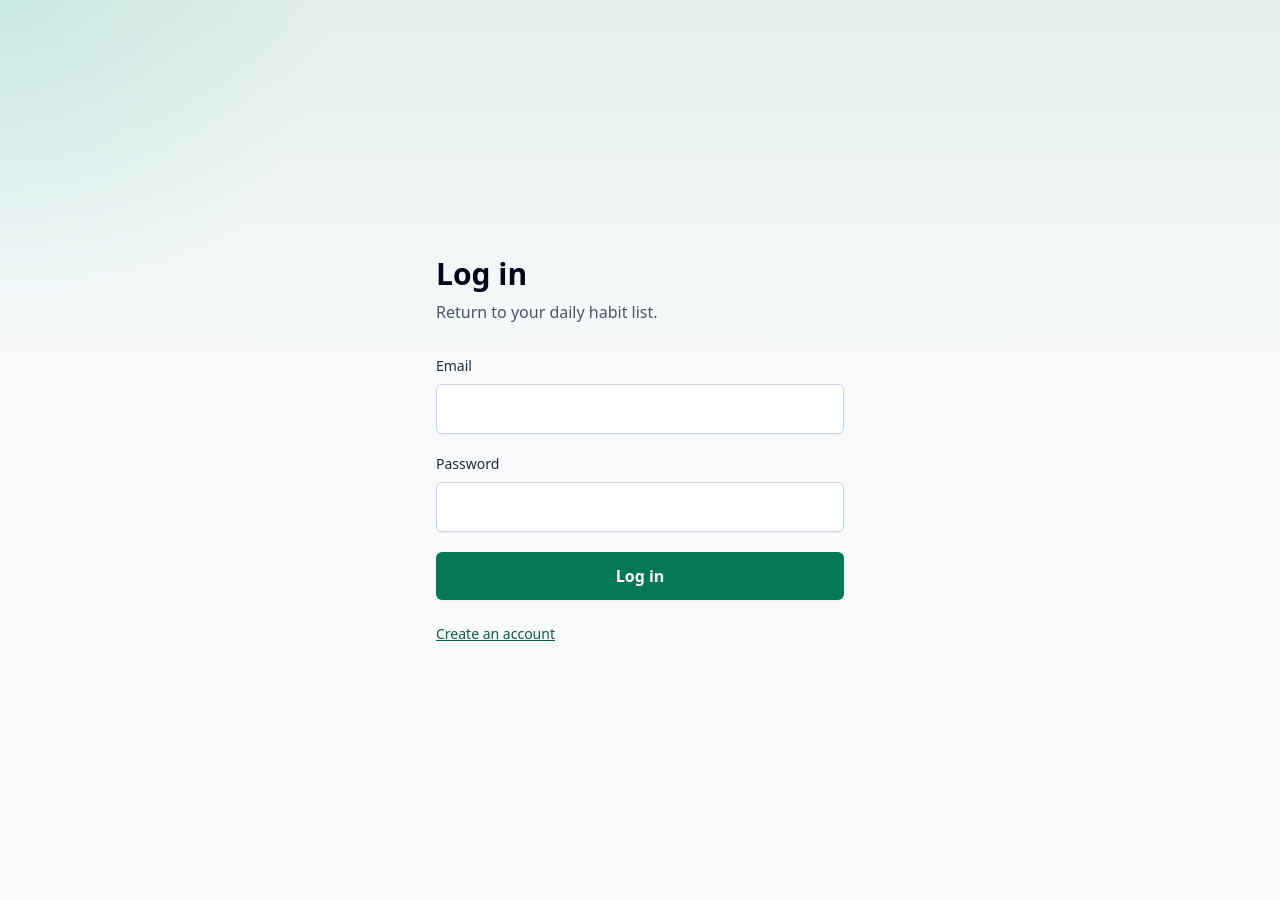
Scenario: auth flow › shows an error for invalid login credentials
Type "missing@example.com" into the field with test id "auth-login-email".
click(640, 409); type("missing@example.com")  # box [436, 384, 844, 434]
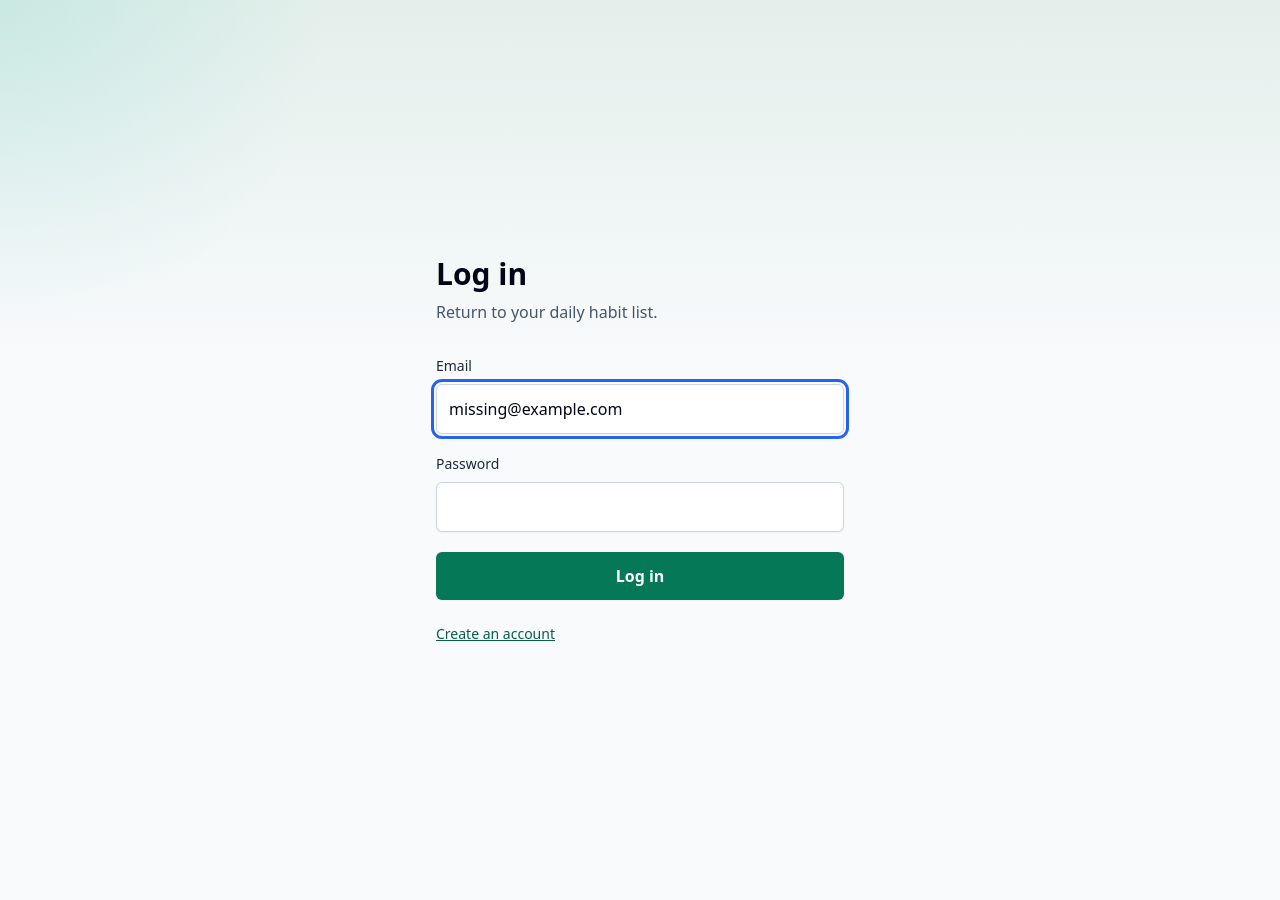
Type "bad" into the password field with test id "auth-login-password".
click(640, 507); type("bad")  # box [436, 482, 844, 532]
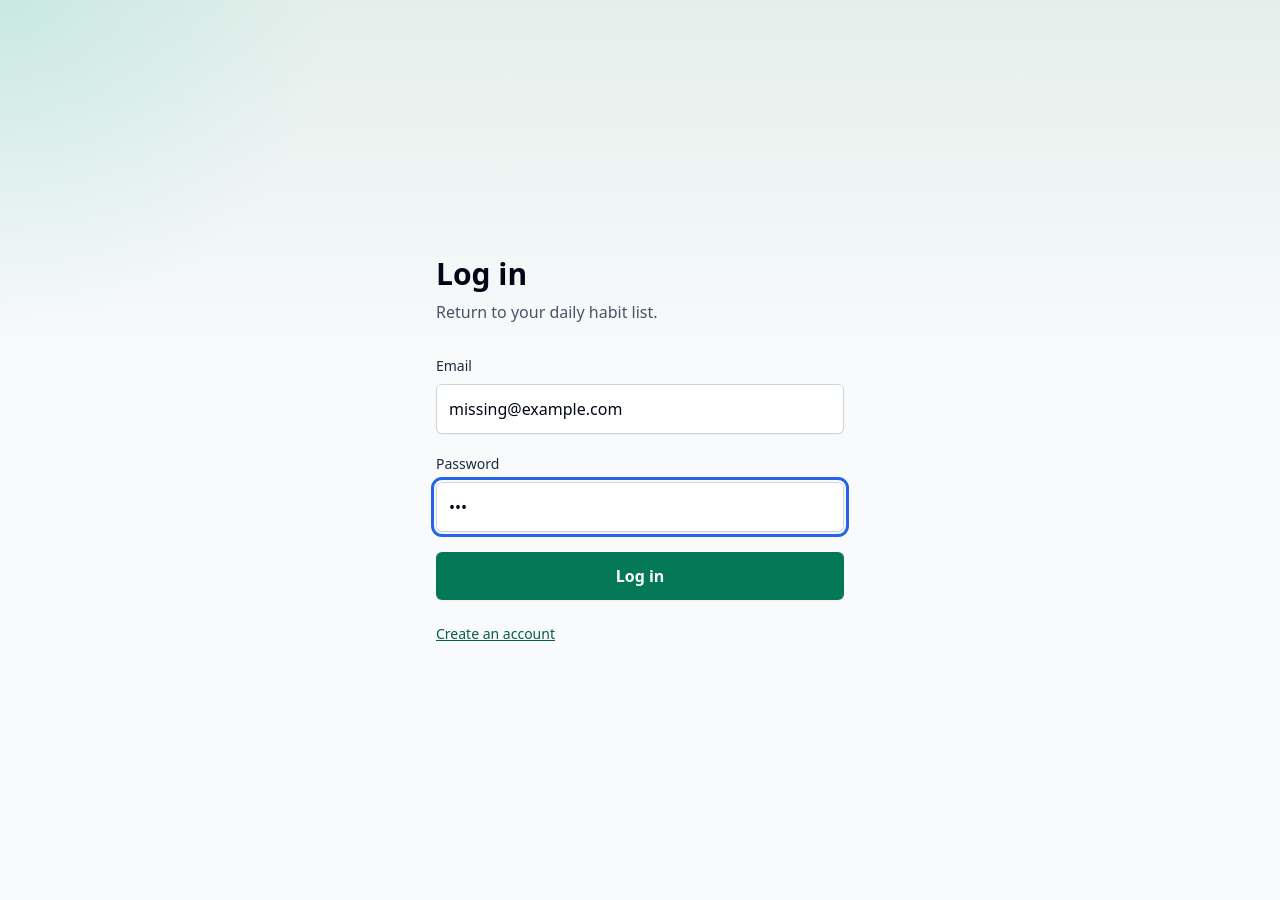
Click the button with test id "auth-login-submit".
click(640, 576)  # box [436, 552, 844, 600]
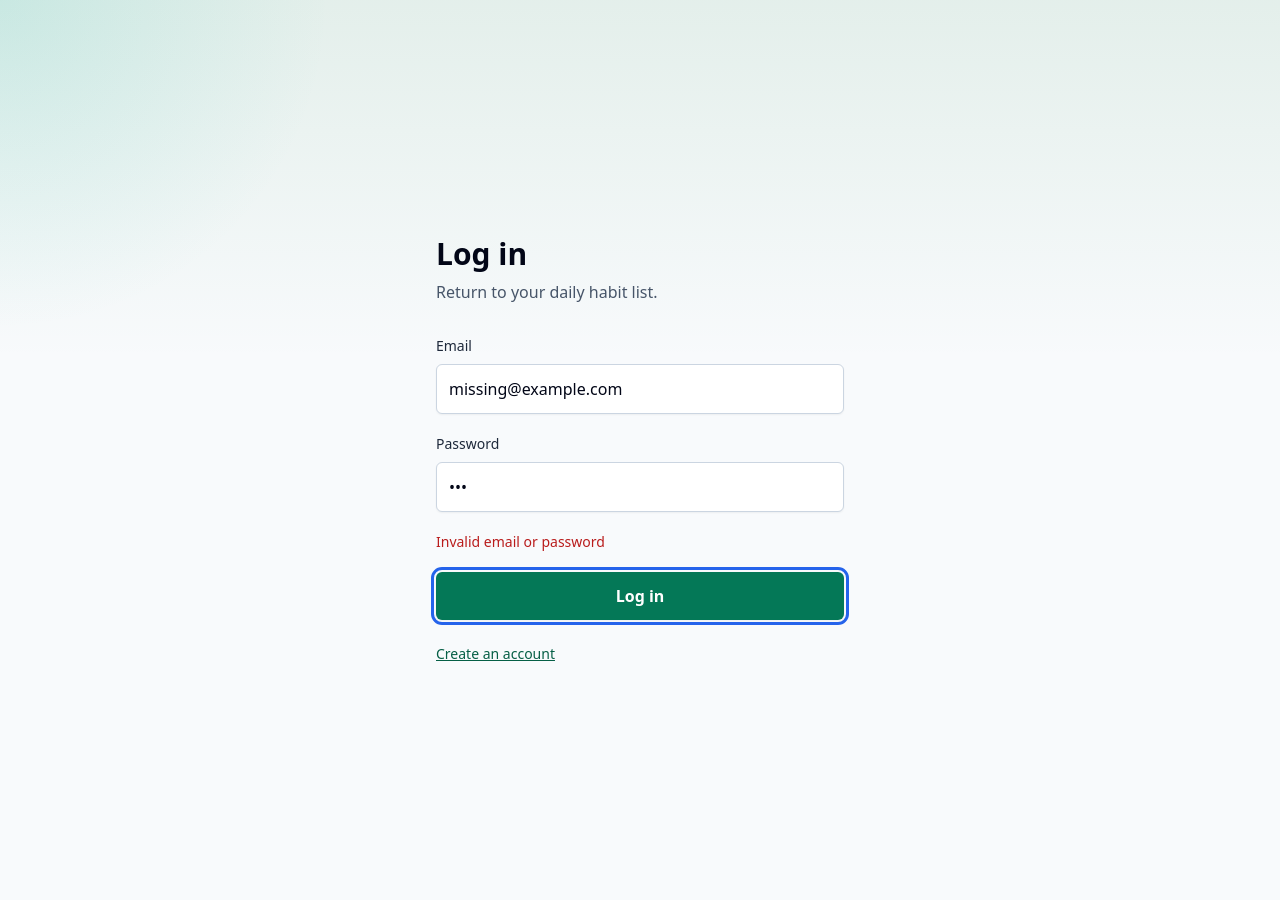
Expected: the text "Invalid email or password" is shown, [436, 532, 605, 551]
